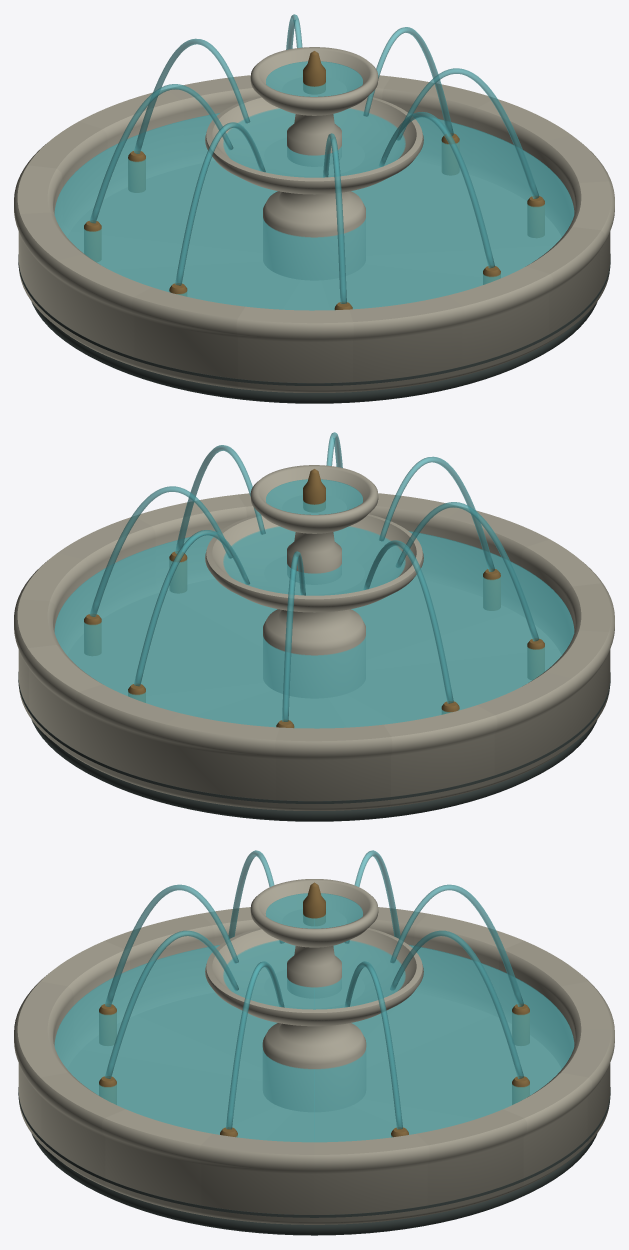
The picture shows the model from 3 angles, top to bottom: view 1: azimuth 30°, elevation 25°; view 2: azimuth 150°, elevation 25°; view 3: azimuth 270°, elevation 25°; orthographic projection.
Parts seen in each view (by area): view 1: STONE_BasinAndBowls, WATER_Surface, WATER_Jets, WATER_BowlPools, METAL_Fittings; view 2: STONE_BasinAndBowls, WATER_Surface, WATER_Jets, WATER_BowlPools, METAL_Fittings; view 3: STONE_BasinAndBowls, WATER_Surface, WATER_Jets, WATER_BowlPools, METAL_Fittings.
Part boxes in pixels (bbox=[...]): STONE_BasinAndBowls: bbox=[14, 47, 614, 403]; WATER_Surface: bbox=[54, 113, 574, 310]; WATER_Jets: bbox=[89, 14, 539, 303]; WATER_BowlPools: bbox=[223, 61, 405, 177]; METAL_Fittings: bbox=[84, 51, 544, 310]; STONE_BasinAndBowls: bbox=[14, 465, 614, 821]; WATER_Surface: bbox=[54, 531, 574, 728]; WATER_Jets: bbox=[89, 432, 539, 721]; WATER_BowlPools: bbox=[223, 479, 405, 595]; METAL_Fittings: bbox=[84, 469, 544, 728]; STONE_BasinAndBowls: bbox=[14, 879, 614, 1235]; WATER_Surface: bbox=[54, 945, 574, 1142]; WATER_Jets: bbox=[105, 850, 523, 1129]; WATER_BowlPools: bbox=[223, 893, 405, 1009]; METAL_Fittings: bbox=[99, 882, 529, 1137].
Bounding box in the file's own units: 5 × 2.15 × 5.
